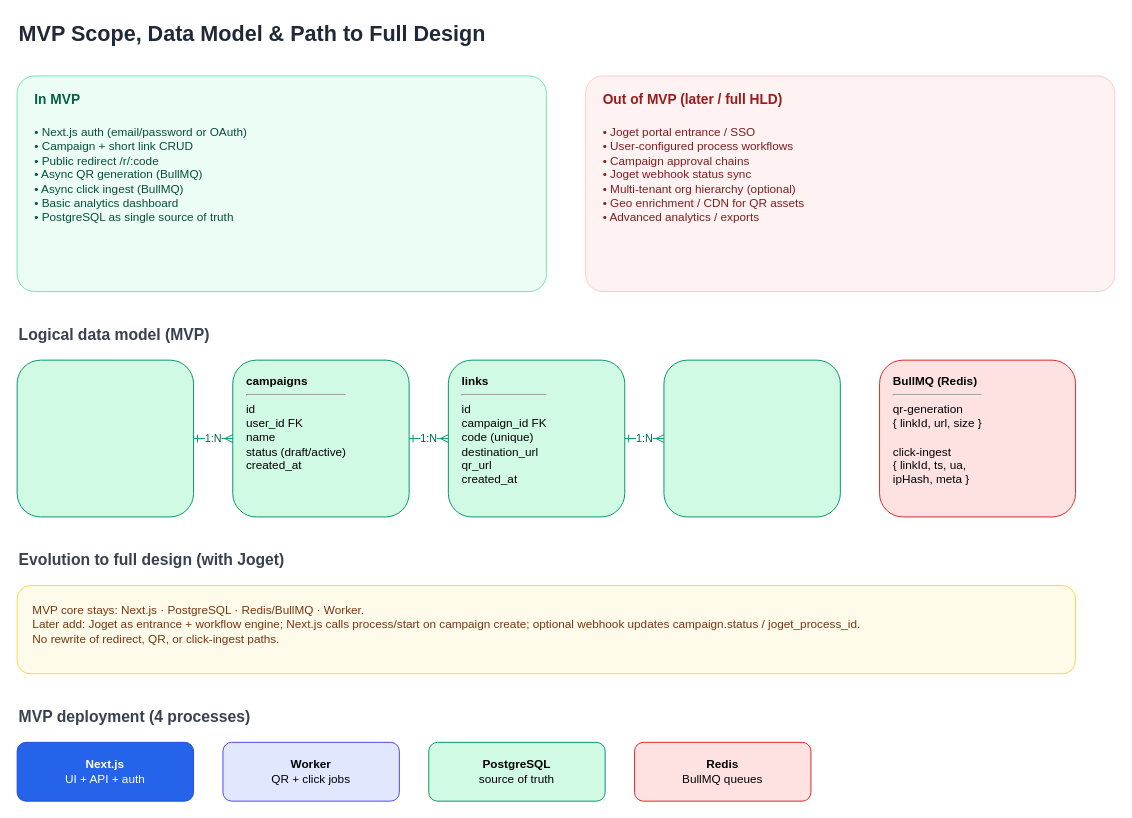
Some shapes in this 1132 by 818 pixel diagram are drawn without their labels. Here are the shapes that lost their labels. From the top down, the centre of each, then its label:
the point at 105,438: users id email password_hash name created_at
the point at 751,438: click_events id link_id FK ts ua ip_hash meta jsonb
